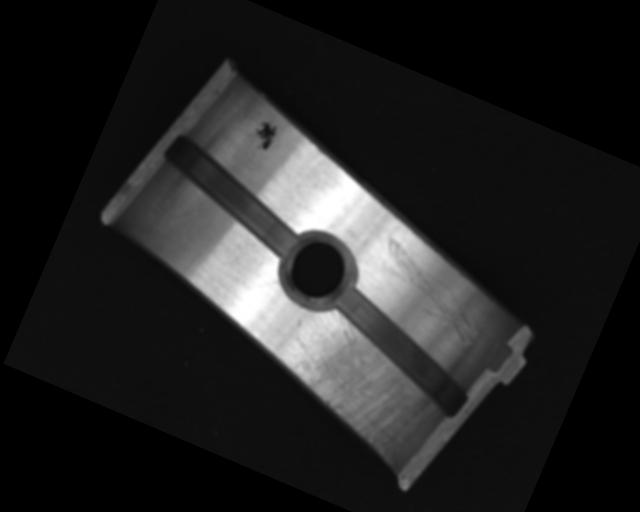blot: (245, 115, 282, 155)
gap: (309, 281, 490, 422), (146, 129, 319, 259)
hole: (274, 224, 361, 312)
nick: (360, 236, 496, 346)
scratch: (262, 295, 454, 472)
